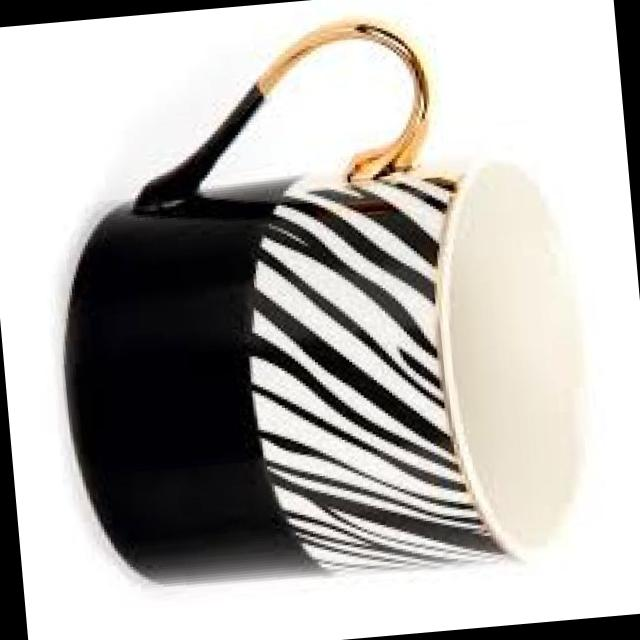Coffee Mug: (28, 0, 600, 601)
